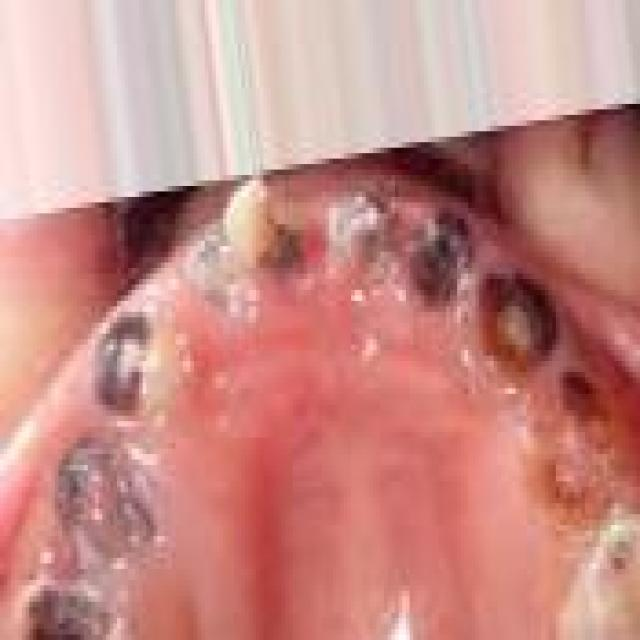caries: (47, 429, 183, 566), (538, 346, 629, 526), (456, 266, 560, 384), (400, 200, 483, 327), (82, 303, 170, 417), (10, 564, 131, 640), (237, 184, 317, 283), (181, 224, 260, 319), (327, 182, 384, 280)
